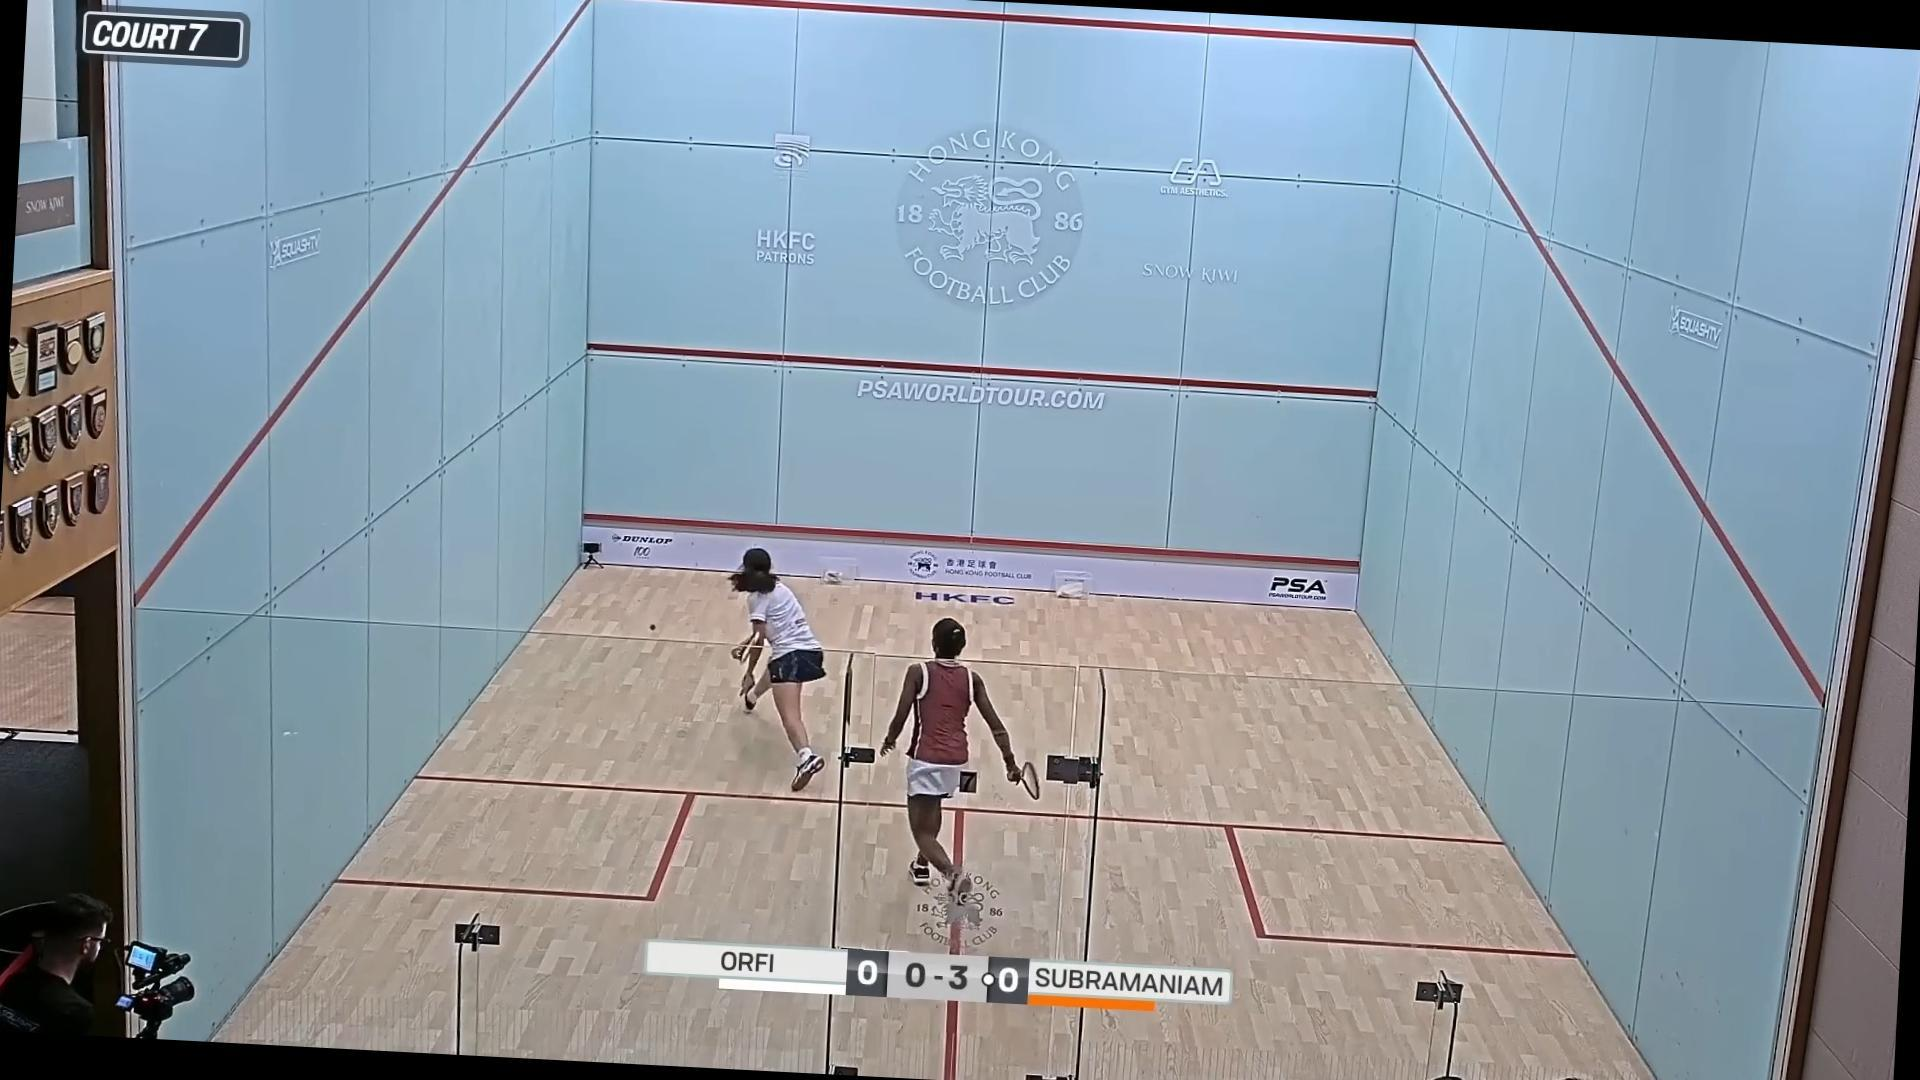Squash-Ball: (634, 611, 671, 644)
